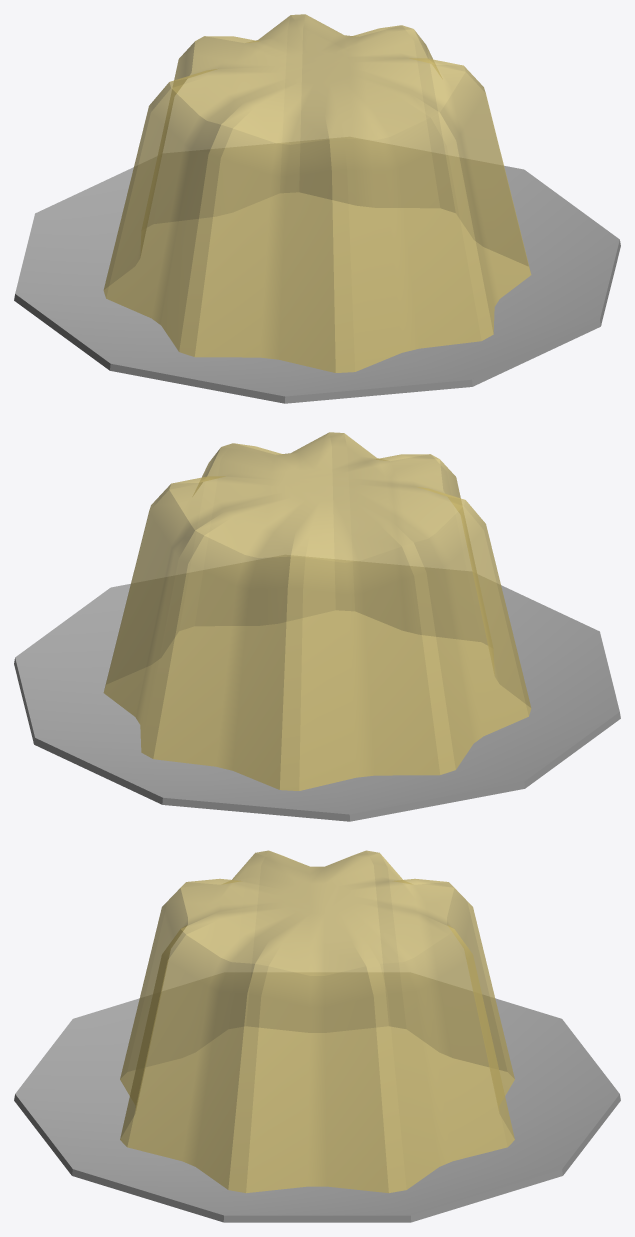
Rendered from pudding_v1.fbx.
The picture shows the model from 3 angles, top to bottom: view 1: azimuth 30°, elevation 25°; view 2: azimuth 150°, elevation 25°; view 3: azimuth 270°, elevation 25°; orthographic projection. The views are drawn at different scales.
Visible parts, largest first — view 1: pCylinder2, pCylinder1; view 2: pCylinder2, pCylinder1; view 3: pCylinder2, pCylinder1.
Part boxes in pixels (left/top/right/bottom): pCylinder2: left=14, top=137, right=620, bottom=403; pCylinder1: left=103, top=14, right=531, bottom=372; pCylinder2: left=14, top=555, right=620, bottom=821; pCylinder1: left=103, top=432, right=531, bottom=790; pCylinder2: left=14, top=973, right=620, bottom=1222; pCylinder1: left=120, top=850, right=514, bottom=1193.
Size of the model in its own units: 3.03 by 1.38 by 3.18.
